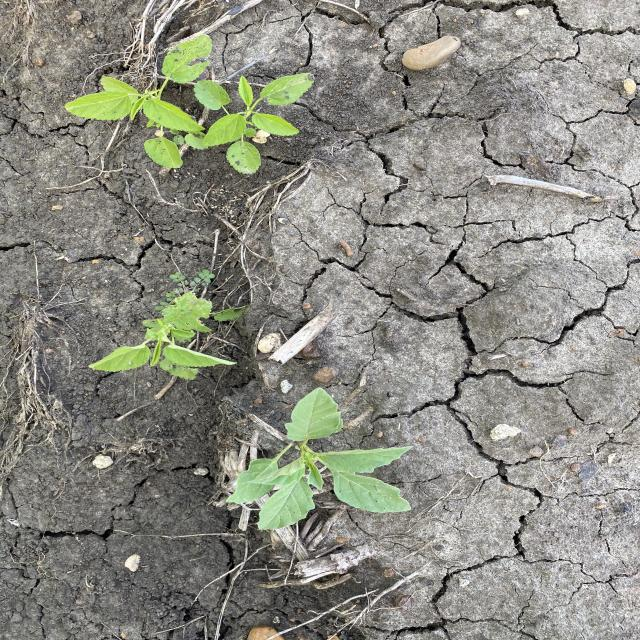CutleafGroundcherry: (221, 386, 424, 531)
PricklySida: (61, 32, 317, 176), (87, 290, 252, 382)
SpottedSpurge: (156, 268, 217, 314)
